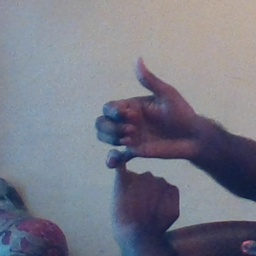S: (90, 52, 205, 220)
